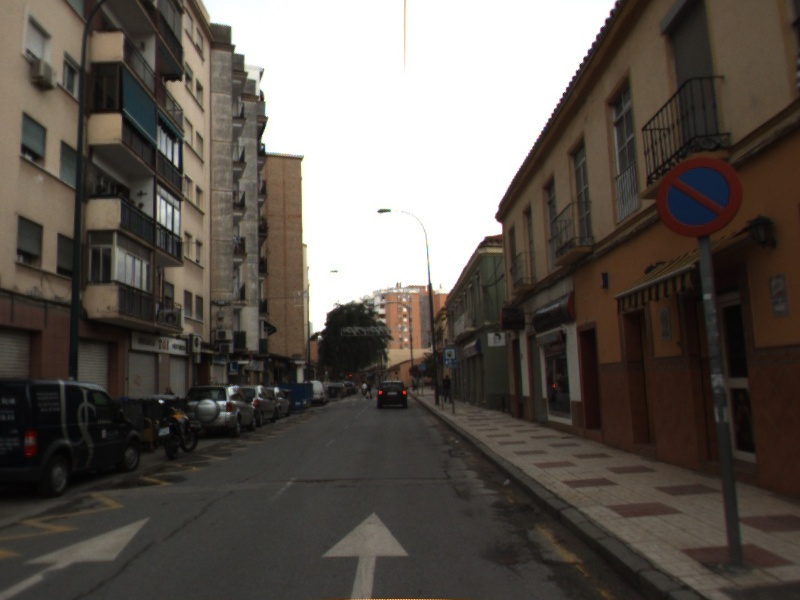STRAIGHT: (1, 514, 154, 600), (318, 510, 412, 600)
